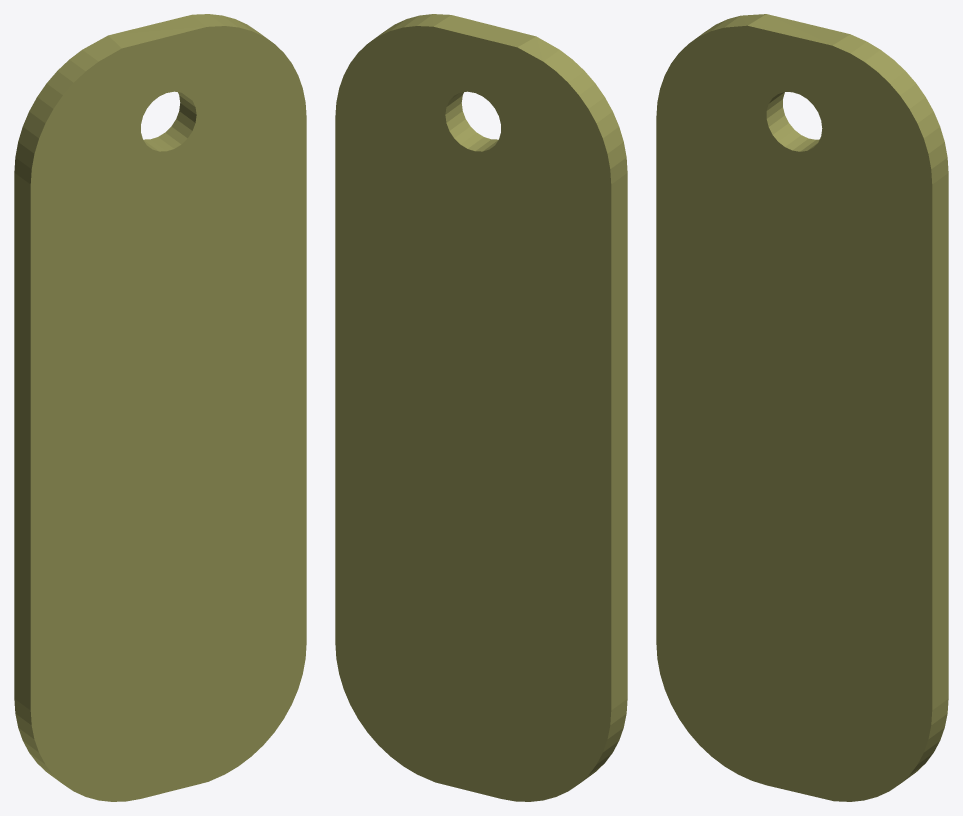
File: OBJ_Keyring label PCB.obj
3 renders of one model, left to right at view 1: azimuth 30°, elevation 25°; view 2: azimuth 150°, elevation 25°; view 3: azimuth 330°, elevation 25°, orthographic.
Size of the model in its own units: 97.23 by 255 by 10.
